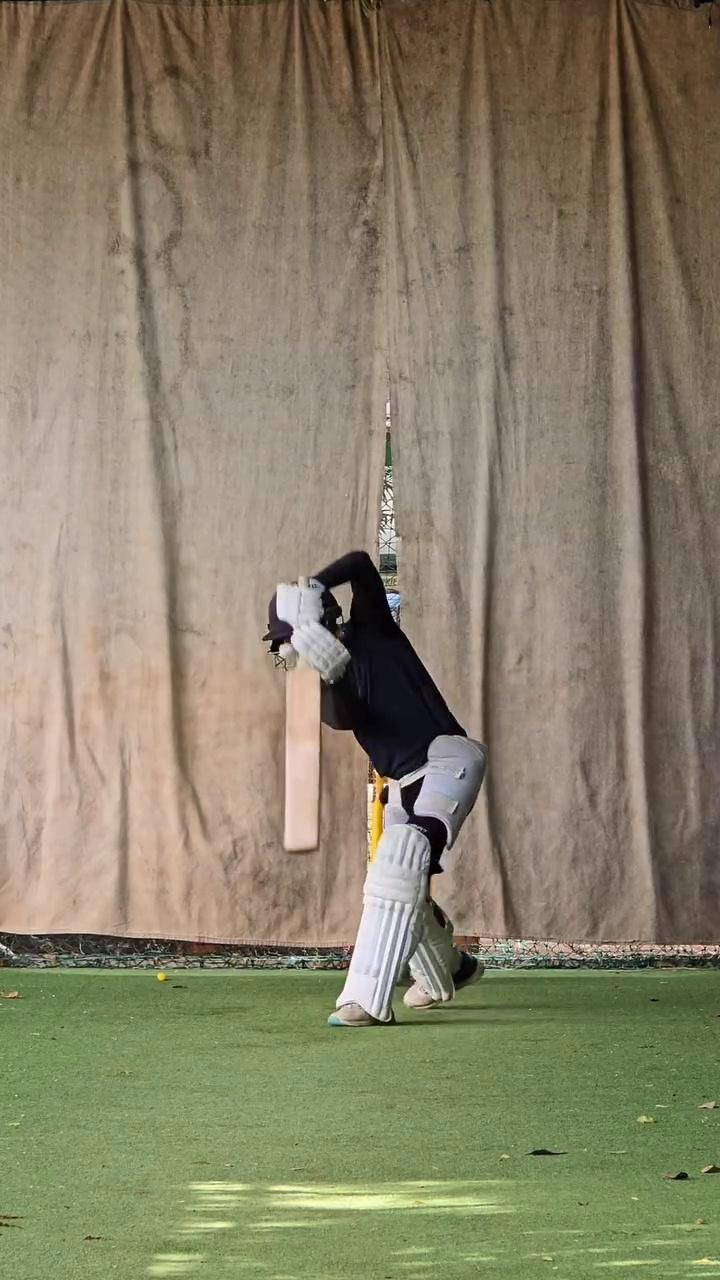bat: (283, 670, 321, 855)
